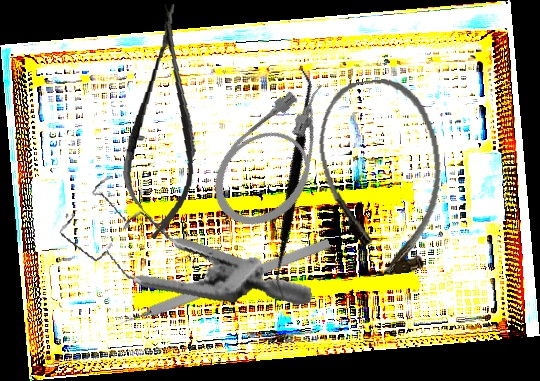Cannula: (195, 66, 365, 244), (311, 73, 454, 282)
Hook Surgical: (106, 238, 332, 333)
Micro Scissor: (116, 1, 211, 242)
Spatula Surgical: (196, 65, 387, 300)
Speculum: (50, 142, 314, 348)
